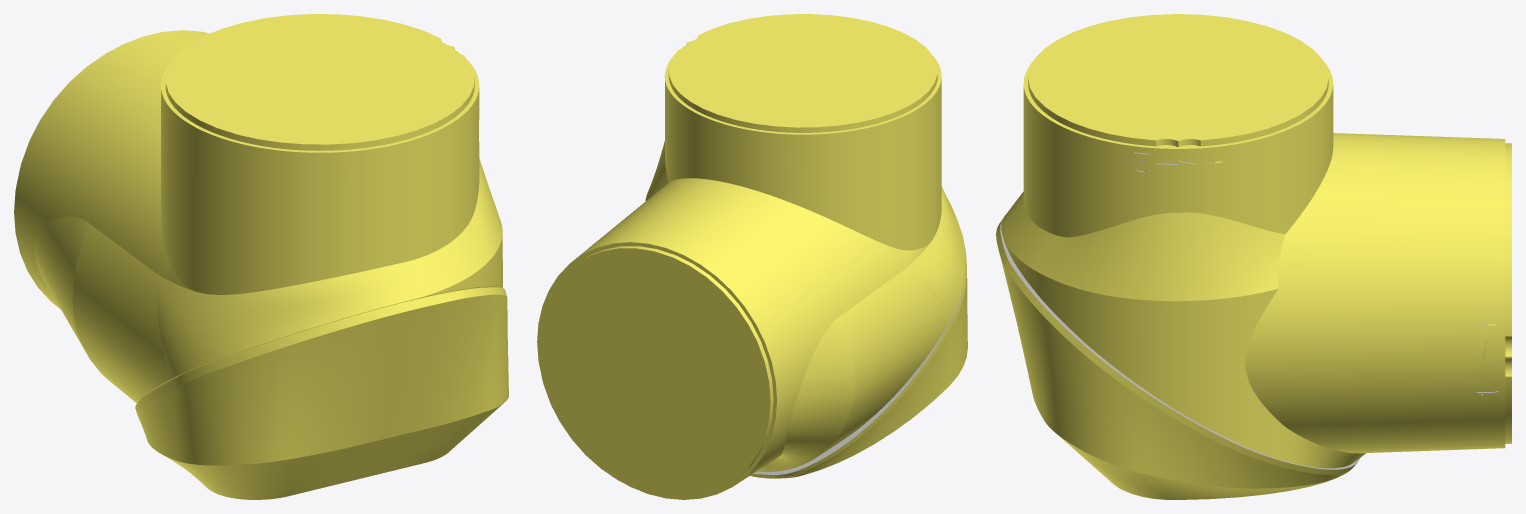
3 views of the same model, side by side, from view 1: azimuth 30°, elevation 25°; view 2: azimuth 150°, elevation 25°; view 3: azimuth 270°, elevation 25° (orthographic). The views are drawn at different scales.
Visible parts, largest first — view 1: J1-ORI.SLDPRT; view 2: J1-ORI.SLDPRT; view 3: J1-ORI.SLDPRT.
Boxes of the visible parts, x1,y1,x2,y2 form: J1-ORI.SLDPRT: (14,14,508,499); J1-ORI.SLDPRT: (537,14,967,499); J1-ORI.SLDPRT: (996,14,1511,499).
Size of the model in its own units: 0.1613 by 0.1904 by 0.2332.
